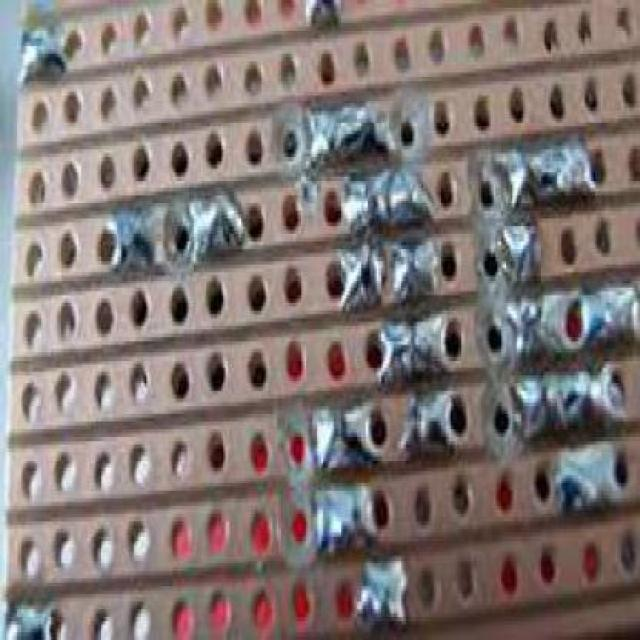Soldering shorted: (506, 364, 626, 446), (334, 161, 432, 227), (376, 306, 447, 380)
